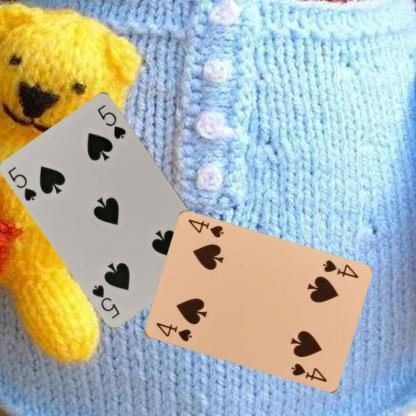4s: (153, 320, 193, 343), (320, 257, 360, 280)
5s: (5, 164, 38, 202)
